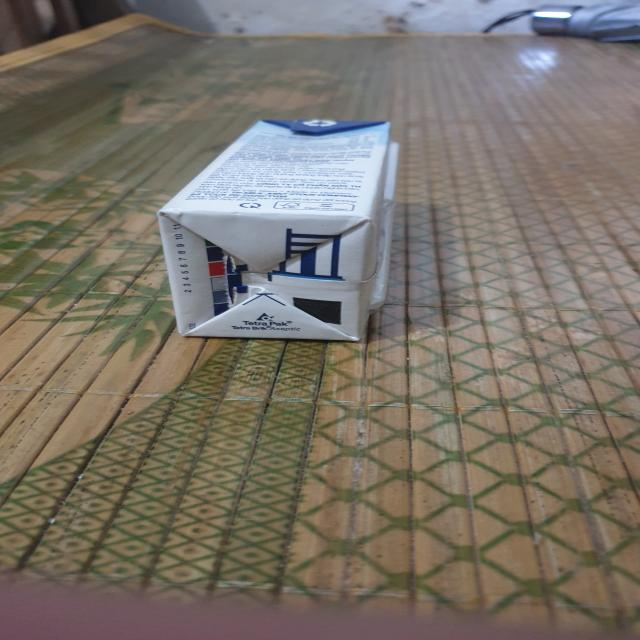TH: (159, 117, 399, 347)
